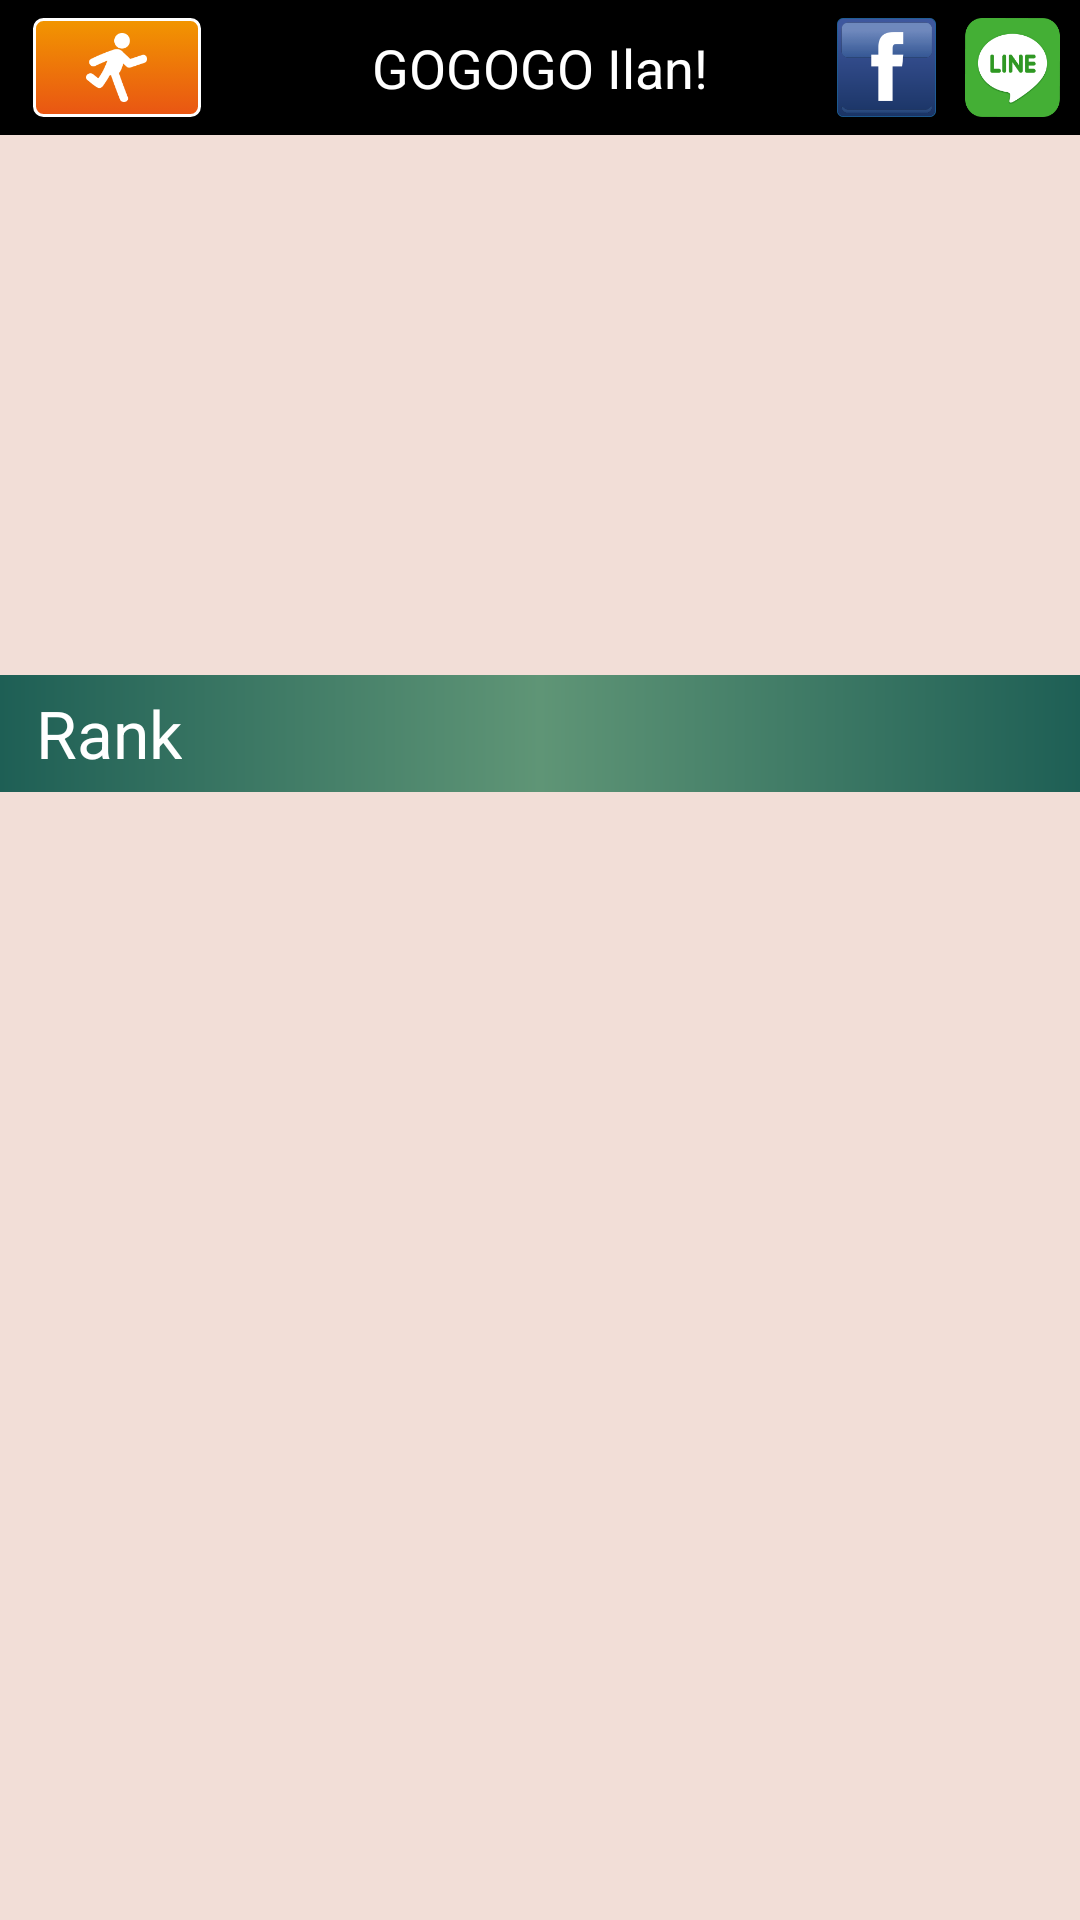

Screen size 1080 × 1920. Icon name, then its center in pixels as (x,y):
run: (116,67)
